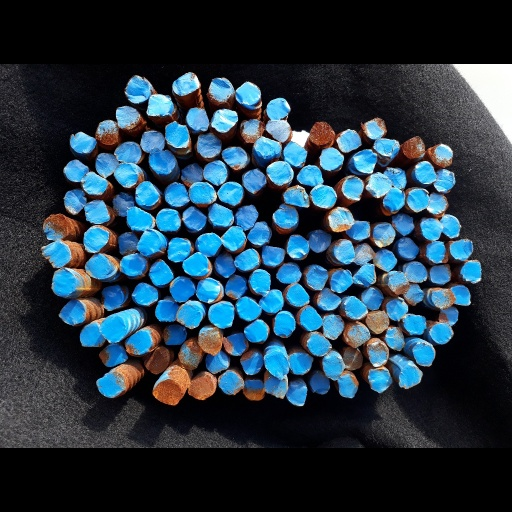dipstick: (39, 239, 71, 268), (122, 74, 152, 103), (234, 79, 263, 109), (50, 268, 79, 298), (152, 378, 183, 406), (82, 225, 111, 254), (136, 229, 167, 256), (84, 254, 116, 280), (96, 371, 127, 397), (197, 325, 223, 356), (142, 346, 170, 374), (343, 319, 371, 347), (208, 300, 236, 328), (270, 202, 298, 230), (188, 371, 215, 400), (124, 329, 154, 355), (165, 119, 190, 150), (399, 359, 424, 390), (208, 76, 235, 104), (234, 295, 262, 322), (176, 301, 203, 329), (134, 180, 161, 208), (149, 148, 177, 175), (262, 369, 288, 398), (364, 338, 390, 367), (101, 285, 130, 311), (119, 252, 149, 277), (97, 342, 128, 366), (303, 332, 334, 356), (99, 315, 127, 341), (264, 351, 290, 379), (219, 225, 247, 251), (195, 133, 223, 159), (172, 71, 201, 96), (253, 135, 282, 160), (146, 94, 176, 118), (178, 339, 201, 370), (124, 206, 155, 229), (322, 349, 344, 381), (59, 299, 86, 325), (168, 275, 195, 301), (339, 175, 365, 202), (365, 172, 392, 198), (43, 213, 68, 241), (296, 306, 324, 331), (148, 258, 173, 286), (266, 160, 294, 185), (349, 149, 377, 174), (210, 108, 239, 132), (188, 181, 217, 205), (309, 185, 338, 209), (284, 378, 307, 408), (367, 367, 393, 393), (164, 181, 190, 207), (304, 263, 329, 290), (331, 238, 356, 265), (196, 276, 221, 303), (82, 171, 109, 196), (182, 252, 211, 275), (359, 117, 388, 140), (240, 117, 265, 143), (185, 106, 210, 132), (62, 189, 87, 215), (218, 370, 244, 395), (424, 240, 450, 265), (258, 288, 284, 313), (286, 234, 311, 260), (208, 202, 234, 227), (217, 181, 243, 206), (328, 207, 354, 232), (95, 118, 119, 145), (341, 295, 368, 319), (243, 168, 267, 195), (69, 131, 97, 154), (163, 321, 188, 346), (223, 332, 248, 357), (243, 319, 268, 344), (239, 350, 264, 375), (411, 341, 436, 366), (359, 286, 384, 311), (449, 237, 474, 262), (156, 207, 181, 232), (95, 152, 120, 177), (405, 188, 430, 213), (116, 105, 142, 129), (81, 321, 105, 347), (383, 298, 409, 322), (285, 282, 311, 306), (307, 229, 333, 253), (167, 236, 191, 262), (222, 146, 248, 170), (114, 162, 138, 188), (428, 142, 454, 166), (265, 119, 292, 142), (272, 311, 295, 338), (195, 232, 222, 255), (297, 163, 324, 186), (131, 282, 159, 304), (366, 310, 390, 335), (385, 271, 409, 296), (419, 215, 443, 240), (372, 248, 397, 272), (353, 263, 378, 287), (329, 268, 353, 293), (155, 299, 180, 323), (248, 221, 272, 246), (233, 204, 257, 229), (203, 159, 227, 184), (390, 212, 415, 236), (319, 147, 344, 171), (63, 159, 89, 182), (183, 206, 206, 232), (85, 200, 111, 223), (412, 160, 438, 183), (399, 136, 426, 158), (383, 186, 405, 213), (338, 371, 359, 399), (114, 142, 142, 163), (396, 236, 420, 260), (117, 232, 141, 256), (180, 162, 204, 186), (384, 165, 408, 189), (266, 97, 291, 120), (341, 346, 364, 371), (439, 213, 462, 238), (261, 243, 286, 266), (234, 248, 259, 271), (112, 192, 135, 217), (372, 222, 395, 247), (429, 287, 455, 309), (225, 274, 247, 300), (275, 262, 301, 284), (335, 129, 361, 151), (250, 269, 271, 296), (289, 352, 313, 375), (384, 326, 406, 351), (429, 322, 454, 344), (141, 130, 166, 152), (309, 122, 334, 144), (403, 261, 429, 282), (323, 313, 343, 340), (309, 371, 331, 395), (460, 259, 482, 283), (317, 288, 341, 310), (353, 242, 375, 266), (214, 251, 236, 275), (402, 314, 427, 335), (373, 138, 399, 158), (434, 169, 456, 192), (428, 191, 449, 215), (206, 352, 231, 372), (243, 379, 265, 401), (451, 284, 472, 307), (429, 265, 453, 285), (405, 284, 426, 305), (349, 220, 371, 240), (437, 307, 459, 325)
